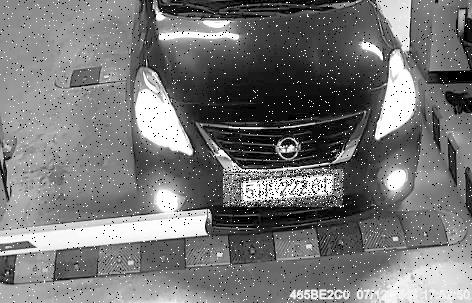License-plate: (225, 170, 346, 208)
